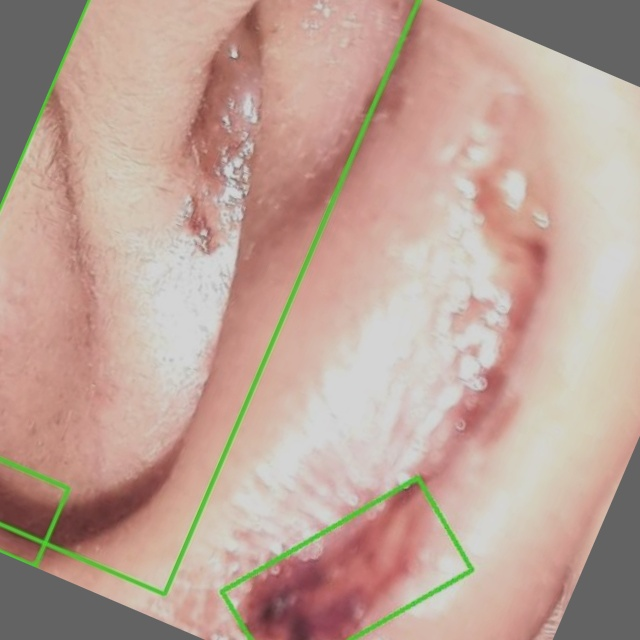Eczema: (0, 0, 419, 595), (222, 478, 471, 639)
